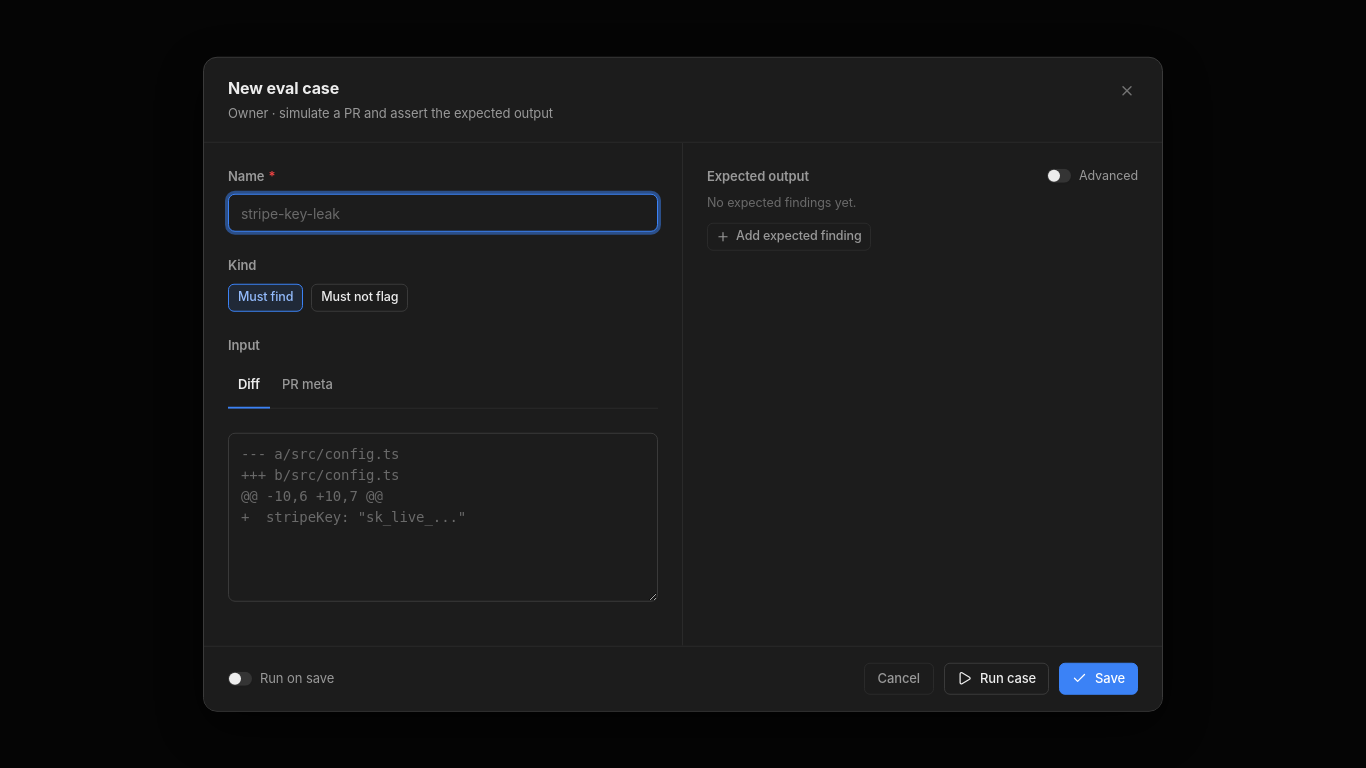
Case Editor: structured must find form › C-43: a new must find case shows a structured list (file, start, end, severity, category, title) with add and remove
Expected: the text "No expected findings yet." is shown, [707, 195, 856, 210]
Click the button "Add expected finding": (789, 236) [707, 222, 870, 250]
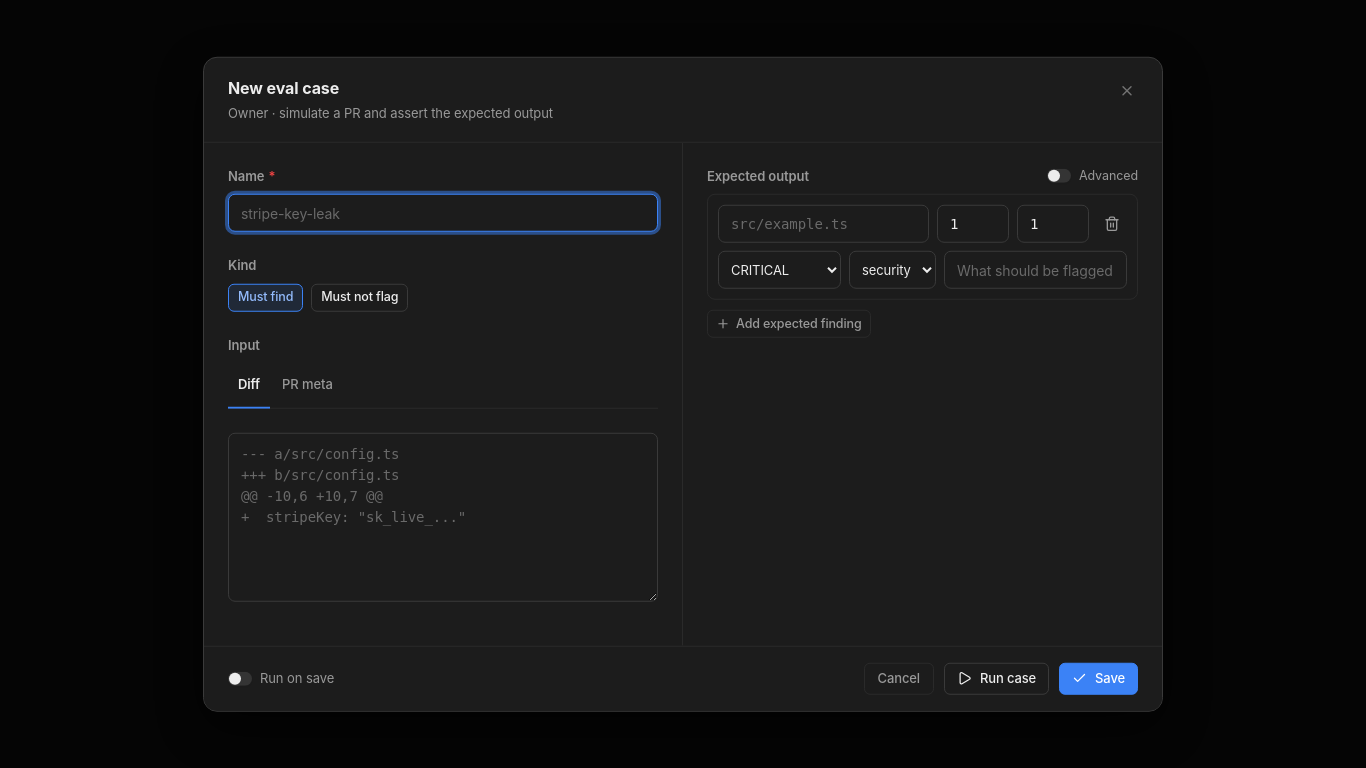
Click the button "Add expected finding": (789, 324) [707, 310, 870, 338]
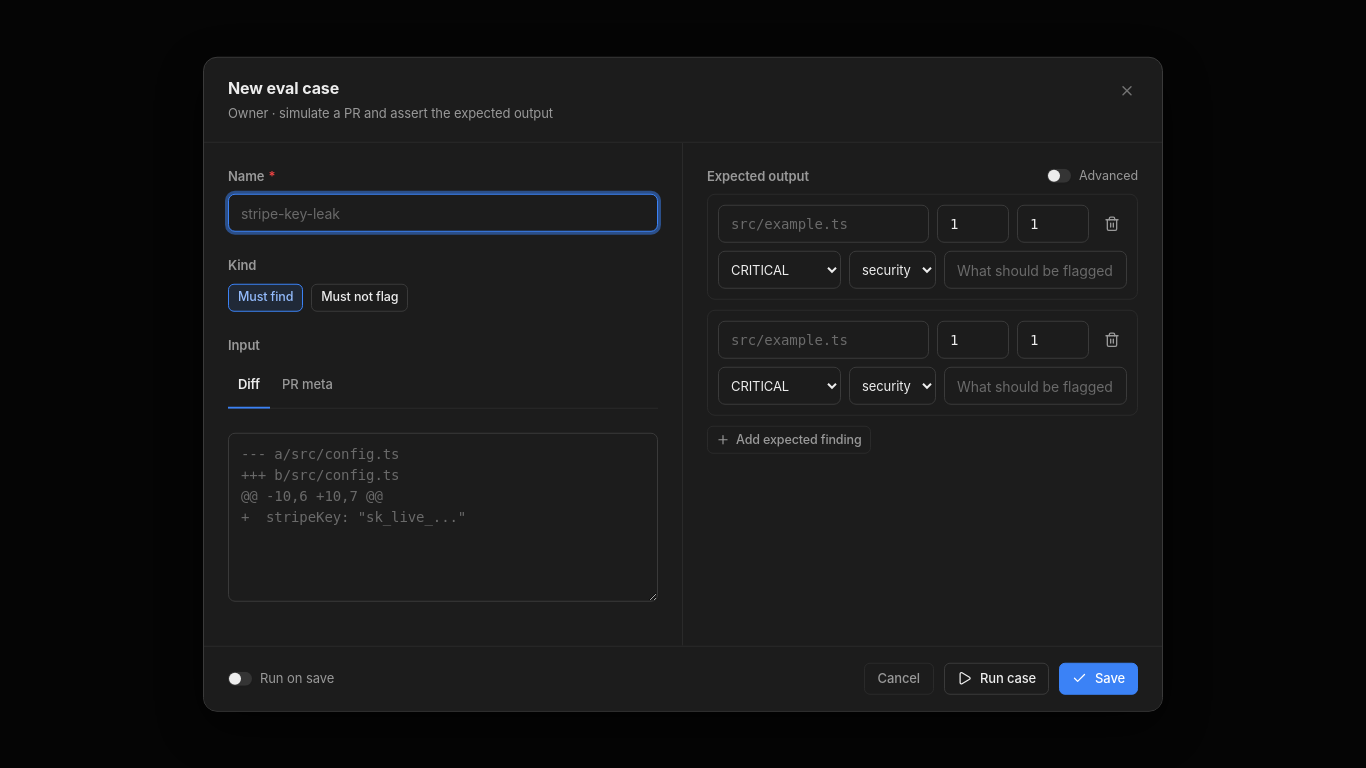
Now the field named "File" is shown
Now the 1st field named "Start line" is shown, box [937, 205, 1009, 243]
Now the 1st field named "End line" is shown, box [1017, 205, 1089, 243]
In the field named "File": (824, 224) [718, 205, 929, 243], type "src/a.ts"
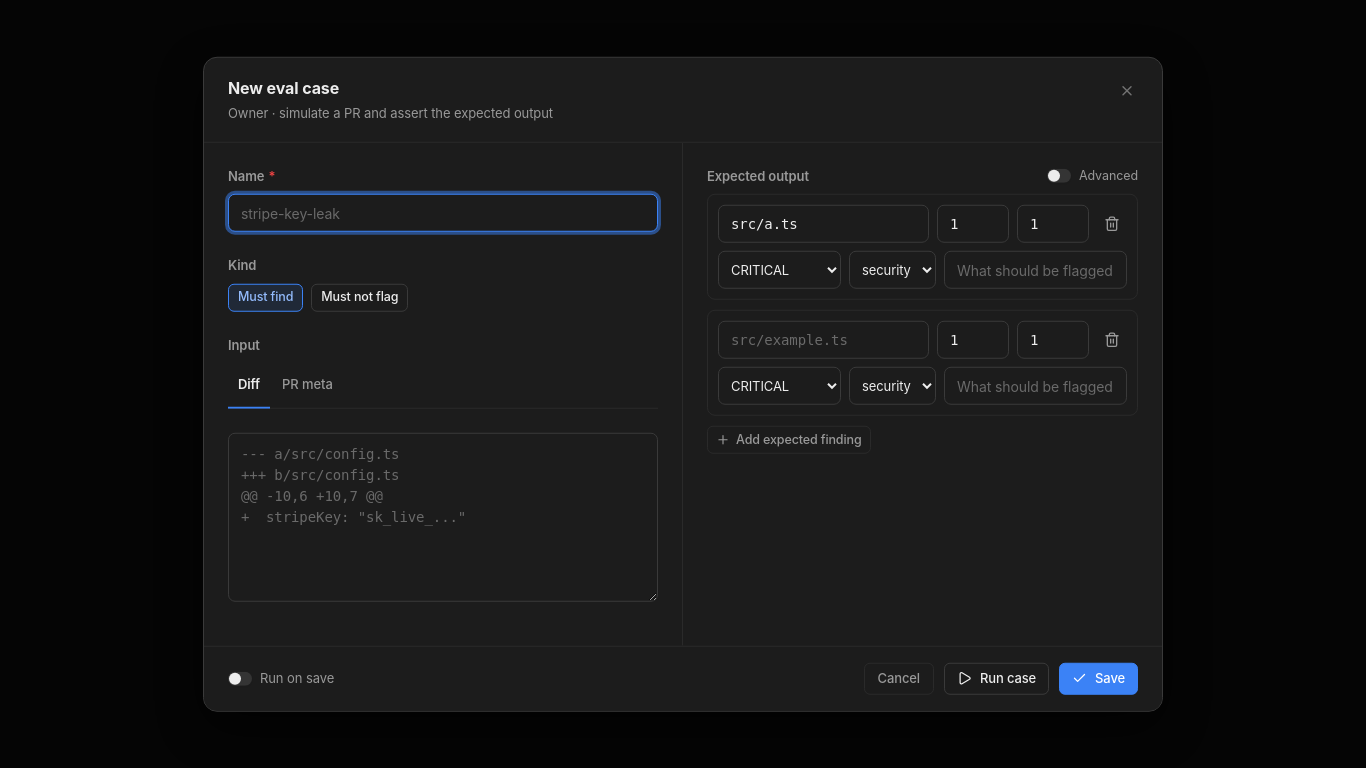
Click the button named "Remove entry 2": (1112, 340) [1097, 325, 1127, 355]
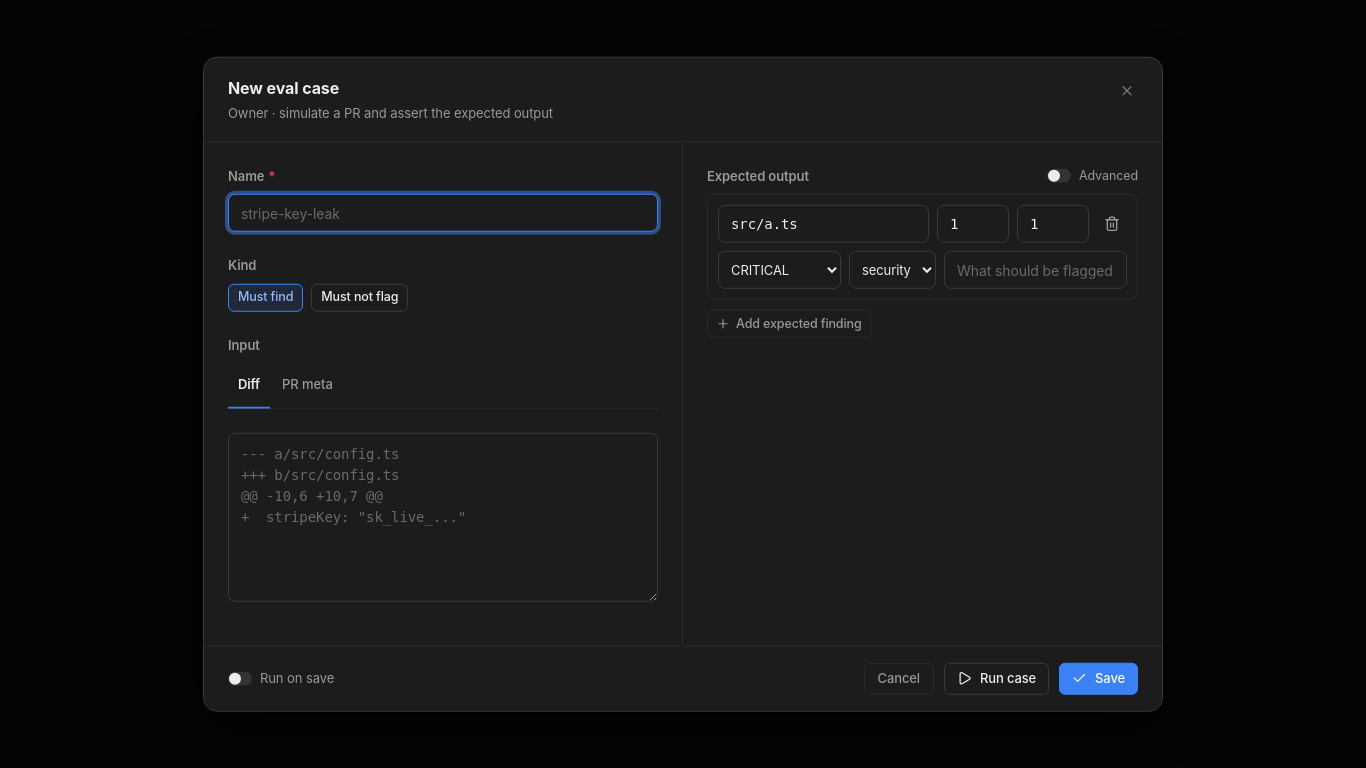
Click the button named "Remove entry 1": (1112, 224) [1097, 209, 1127, 239]
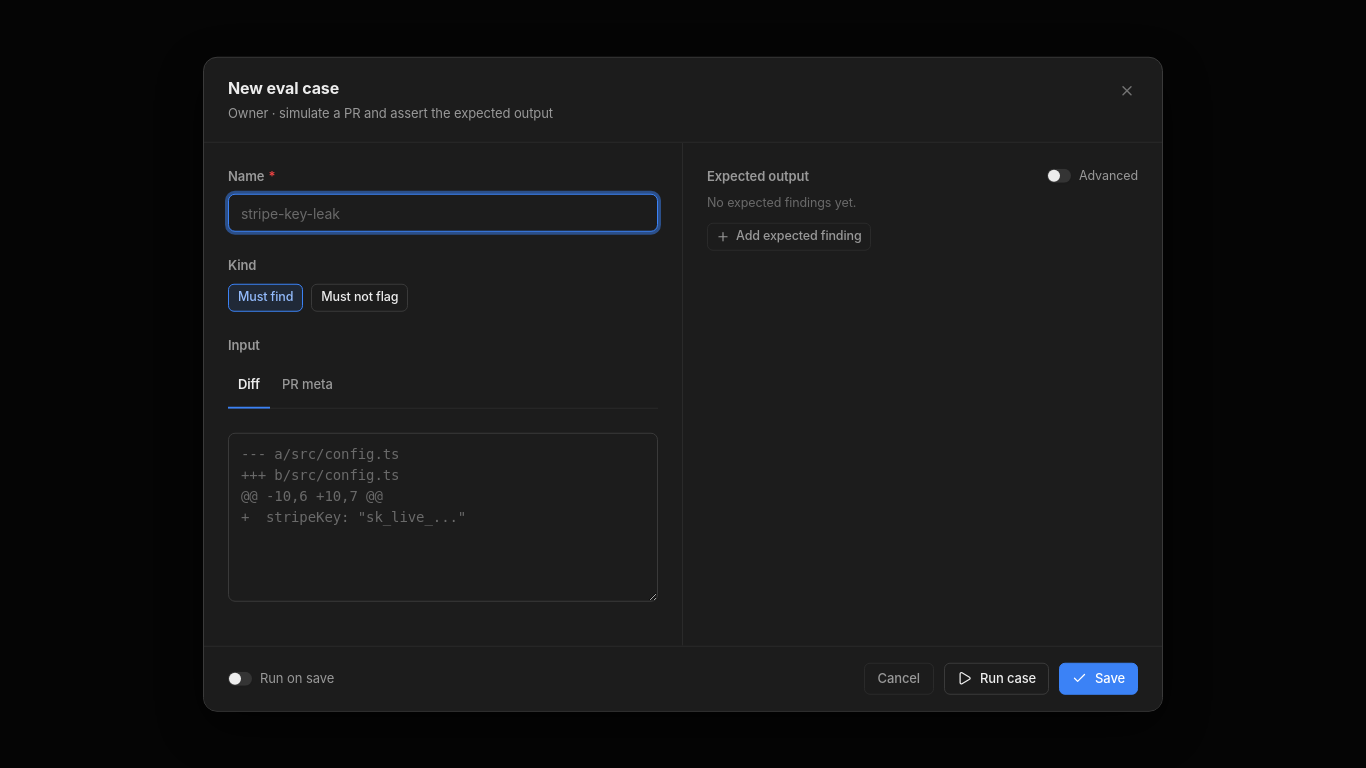
Now the text "No expected findings yet." is shown, box [707, 195, 856, 210]
